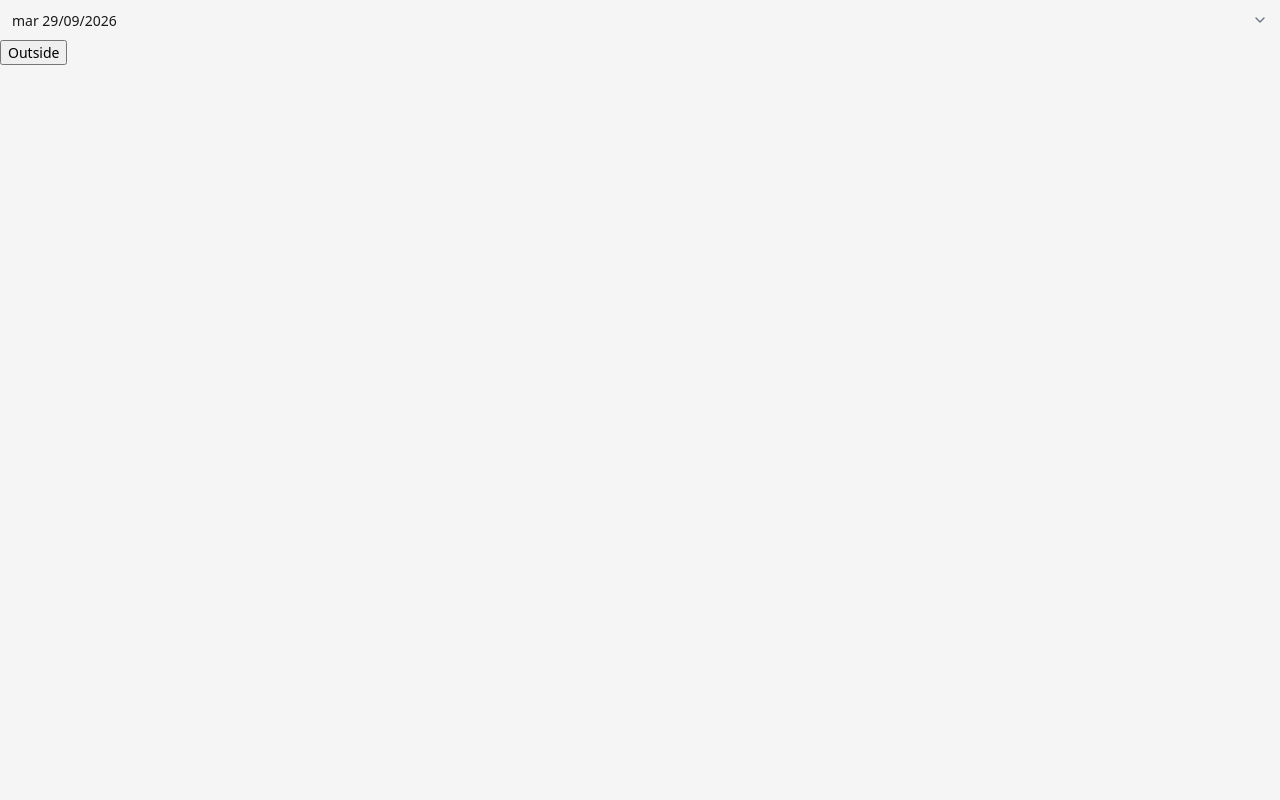
custom date picker › selects a date from the localized inline heading with the keyboard and restores focus
Press ArrowDown in the button "mar 29/09/2026", box [0,0,1279,40]
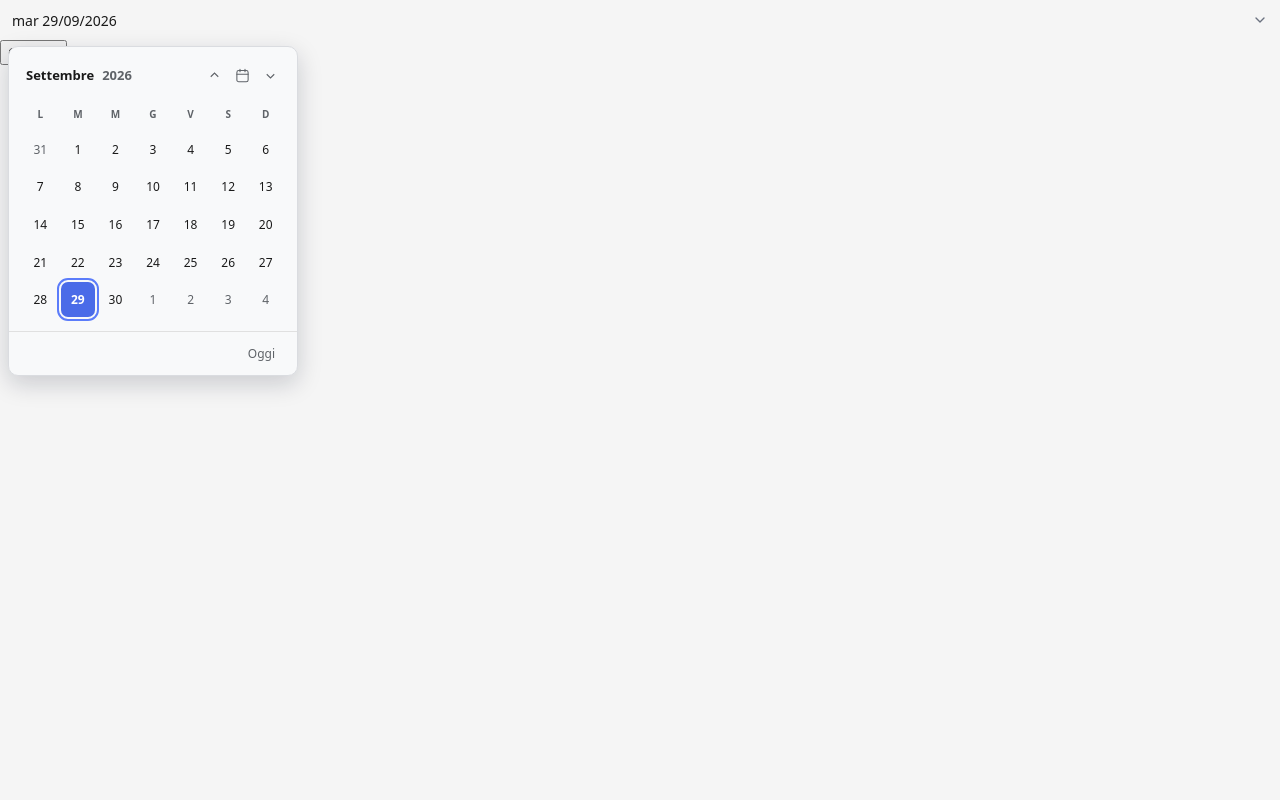
Press ArrowRight in the button "29", box [61,282,95,317]
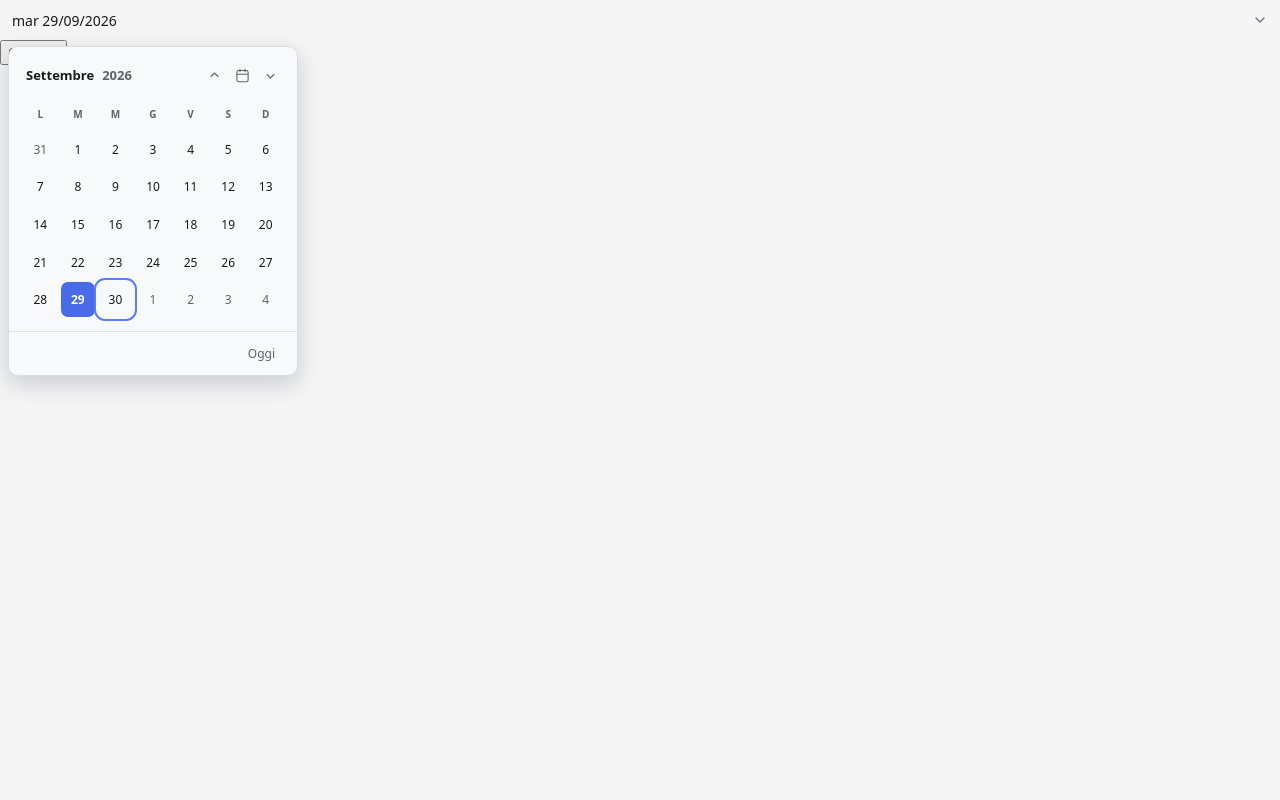
Click the button "30".
click(115, 300)  # box [98,282,133,317]
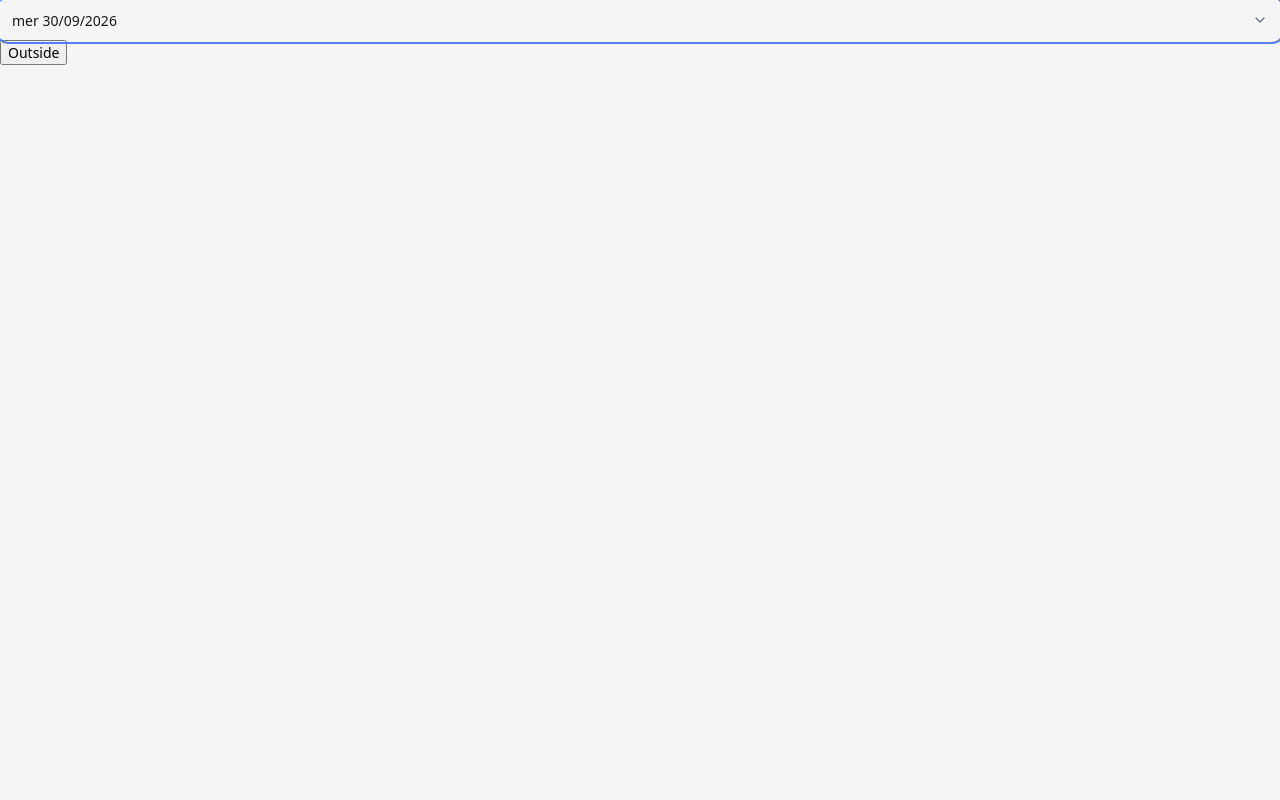
Expected: the button "mer 30/09/2026" is shown, [0,0,1279,40]
Expected: the dialog is gone
